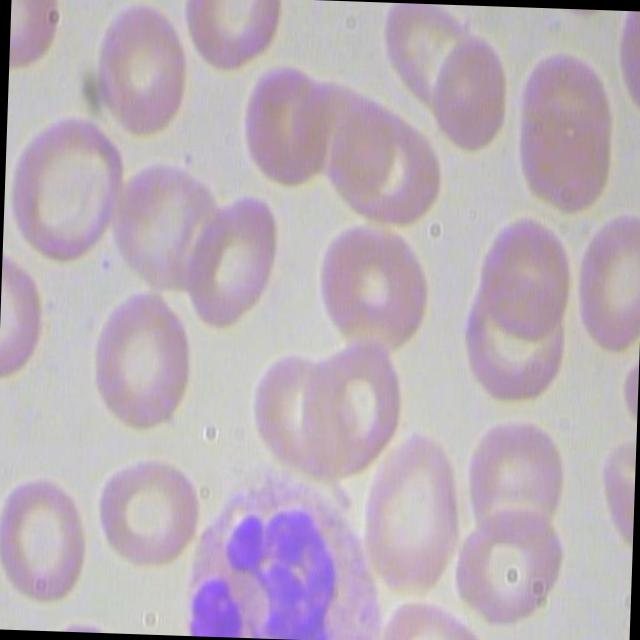RBC: (354, 423, 468, 611), (3, 113, 139, 268), (306, 212, 438, 363), (182, 185, 292, 334), (87, 286, 196, 434), (87, 0, 196, 142), (467, 406, 574, 548), (462, 270, 569, 412), (449, 498, 568, 624), (0, 462, 101, 610), (92, 453, 201, 578), (476, 210, 576, 340), (237, 58, 334, 187), (517, 92, 614, 221), (574, 200, 640, 356), (430, 26, 510, 150), (185, 0, 296, 72)
WBC: (168, 463, 389, 640)
